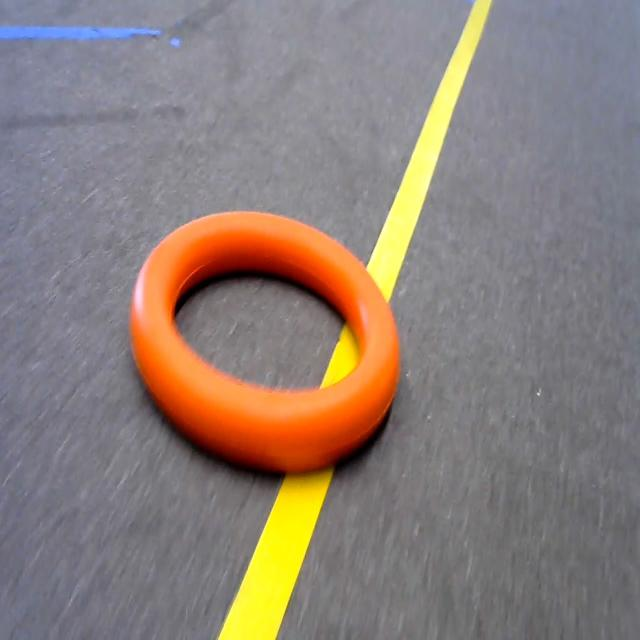note: (122, 201, 421, 494)
